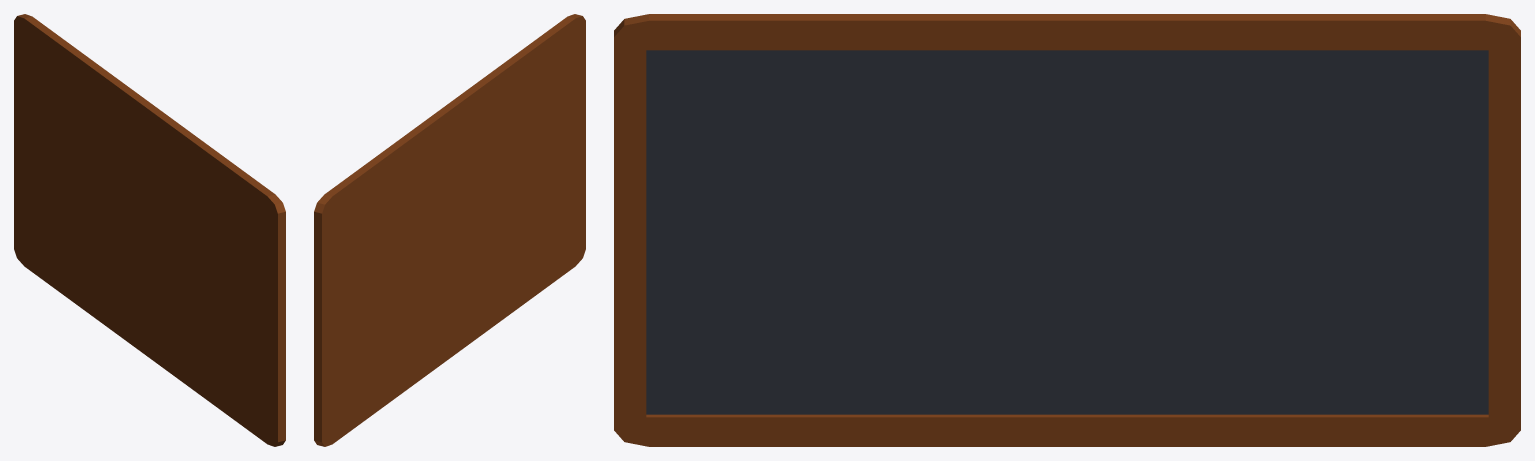
The model's file is SM_Blackboard_01.glb.
The picture shows the model from 3 angles, left to right: view 1: azimuth 30°, elevation 25°; view 2: azimuth 150°, elevation 25°; view 3: azimuth 270°, elevation 25°; orthographic projection. The views are drawn at different scales.
Parts seen in each view (by area): view 1: SM_Blackboard_01; view 2: SM_Blackboard_01; view 3: SM_Blackboard_01.
Part boxes in pixels (box(x1,y1,x2,y2)): SM_Blackboard_01: box(14, 14, 285, 446); SM_Blackboard_01: box(314, 14, 585, 446); SM_Blackboard_01: box(614, 14, 1520, 446).
Bounding box in the file's own units: 0.0329 × 0.9679 × 1.87.
Materials: 1 (1 with a texture image).
